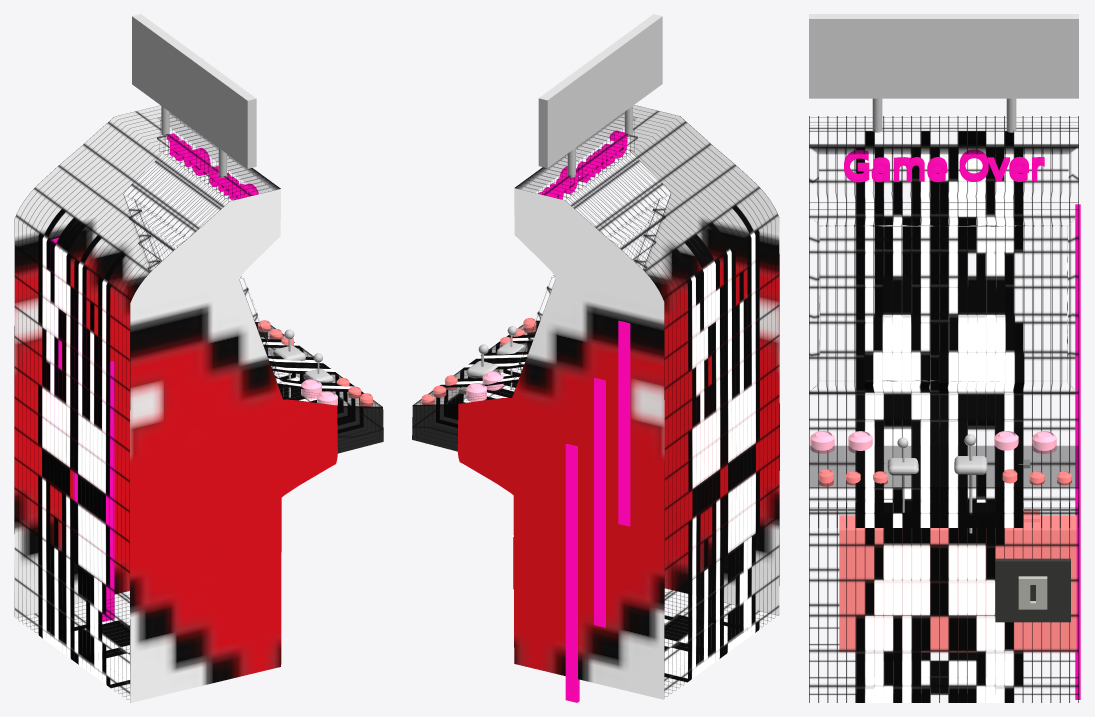
3 renders of one model, left to right at view 1: azimuth 30°, elevation 25°; view 2: azimuth 150°, elevation 25°; view 3: azimuth 270°, elevation 25°, orthographic. The views are drawn at different scales.
Parts seen in each view (by area): view 1: Cap_1_9, Extrude, Cap_2_9, Cube_4, Cube_2; view 2: Cap_2_9, Extrude, Cap_1_9, Cube_4, Cube_2, Cube_1, Cube; view 3: Extrude, Cube_4, Cube_2_2, Cube_5_2, Cube_2, Cube_5, Cube_1, Cube_1_3, Cube, Cube_3_2, Cylinder_4_2, Cylinder_6 (+2 smaller).
Boxes of the visible parts, bbox=[...] form: Cap_1_9: bbox=[130, 189, 337, 702]; Extrude: bbox=[14, 105, 383, 702]; Cap_2_9: bbox=[14, 105, 164, 618]; Cube_4: bbox=[132, 14, 256, 168]; Cube_2: bbox=[101, 361, 114, 621]; Cap_2_9: bbox=[457, 188, 664, 699]; Extrude: bbox=[412, 105, 779, 696]; Cap_1_9: bbox=[629, 105, 779, 615]; Cube_4: bbox=[538, 14, 662, 168]; Cube_2: bbox=[565, 443, 579, 702]; Cube_1: bbox=[594, 378, 605, 627]; Cube: bbox=[618, 320, 630, 526]; Extrude: bbox=[809, 116, 1078, 702]; Cube_4: bbox=[809, 14, 1078, 98]; Cube_2_2: bbox=[839, 515, 1076, 652]; Cube_5_2: bbox=[995, 558, 1070, 622]; Cube_2: bbox=[1075, 393, 1080, 699]; Cube_5: bbox=[1018, 576, 1047, 609]; Cube_1: bbox=[1075, 292, 1080, 393]; Cube_1_3: bbox=[954, 456, 987, 474]; Cube: bbox=[1075, 204, 1080, 292]; Cube_3_2: bbox=[888, 458, 918, 475]; Cylinder_4_2: bbox=[1032, 431, 1056, 453]; Cylinder_6: bbox=[810, 431, 834, 453].
Bounding box in the file's own units: 5.07 × 11.4 × 4.03.
Materials: 9 (3 with a texture image).
